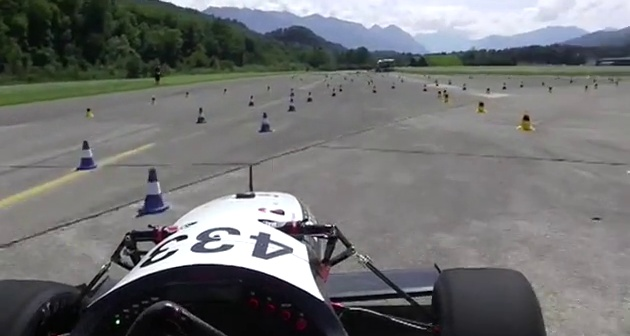Cone: (135, 168, 170, 217), (75, 138, 97, 173), (516, 105, 538, 131), (257, 110, 274, 133), (195, 107, 210, 124)
